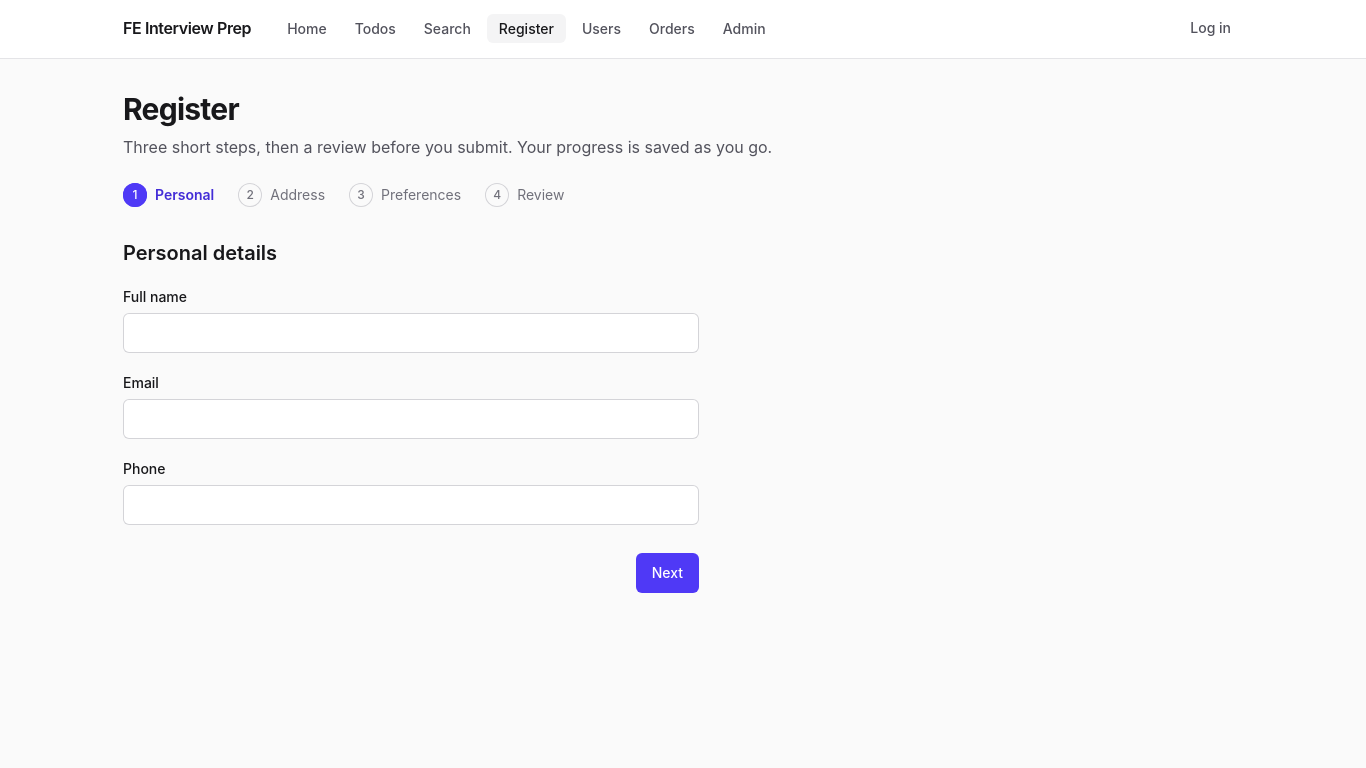
Scenario: RegistrationPage › keeps what was entered when going back and forward again
Expected: the heading "Register" is shown, [123,91,239,127]
Step 1. Type "Ada Lovelace" into the field labelled "Full name" → (411, 333), box [123,313,699,353]
Step 2. Type "ada@example.com" into the field labelled "Email" → (411, 419), box [123,399,699,439]
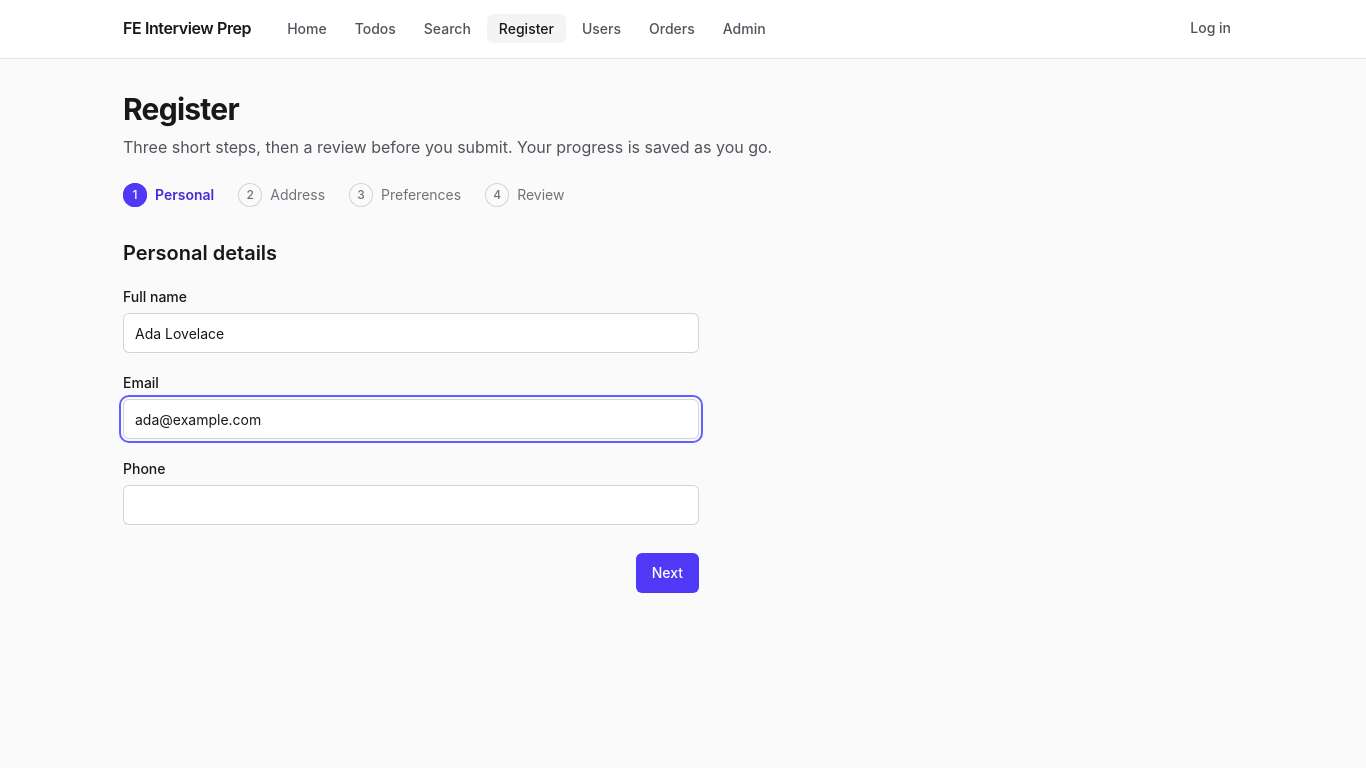
Step 3. Type "+44 20 7946 0958" into the field labelled "Phone" → (411, 505), box [123,485,699,525]
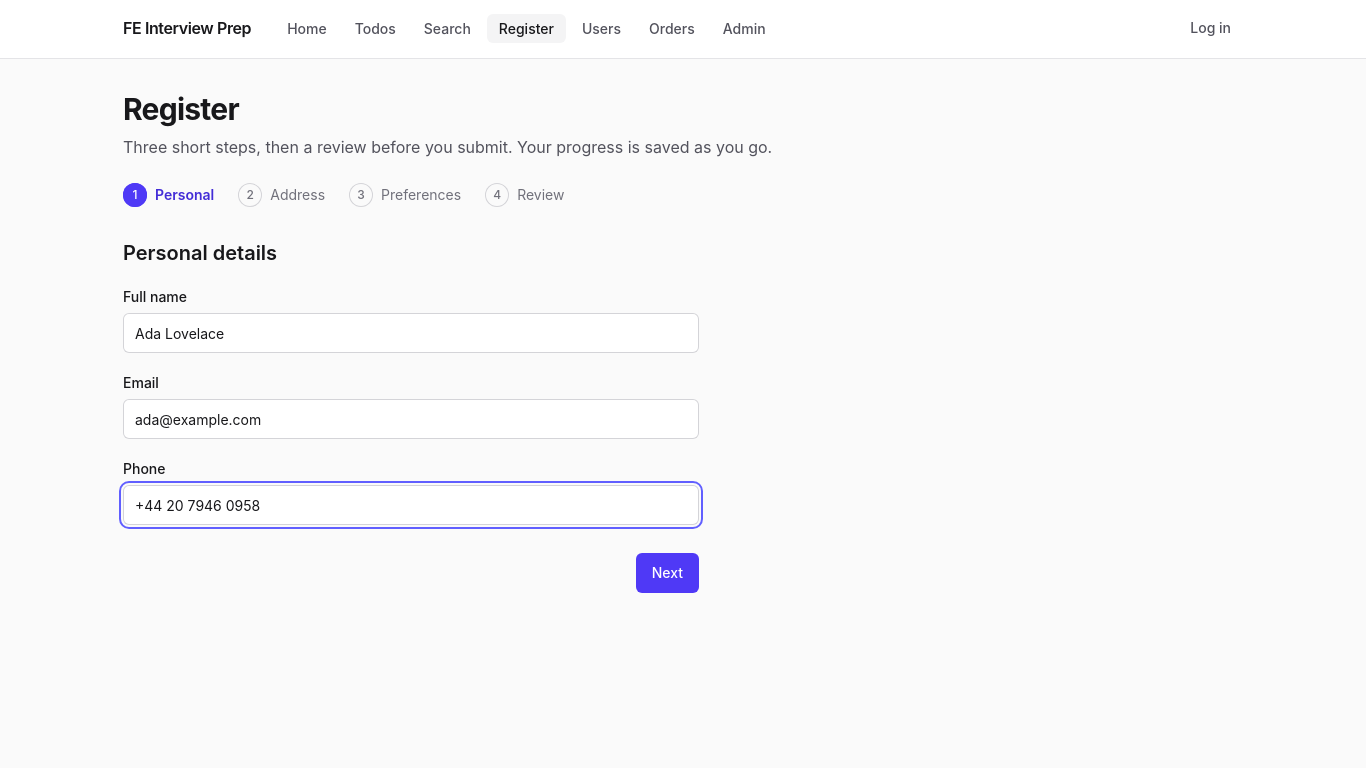
Step 4. Click the button "Next" → (667, 573), box [636,553,699,593]
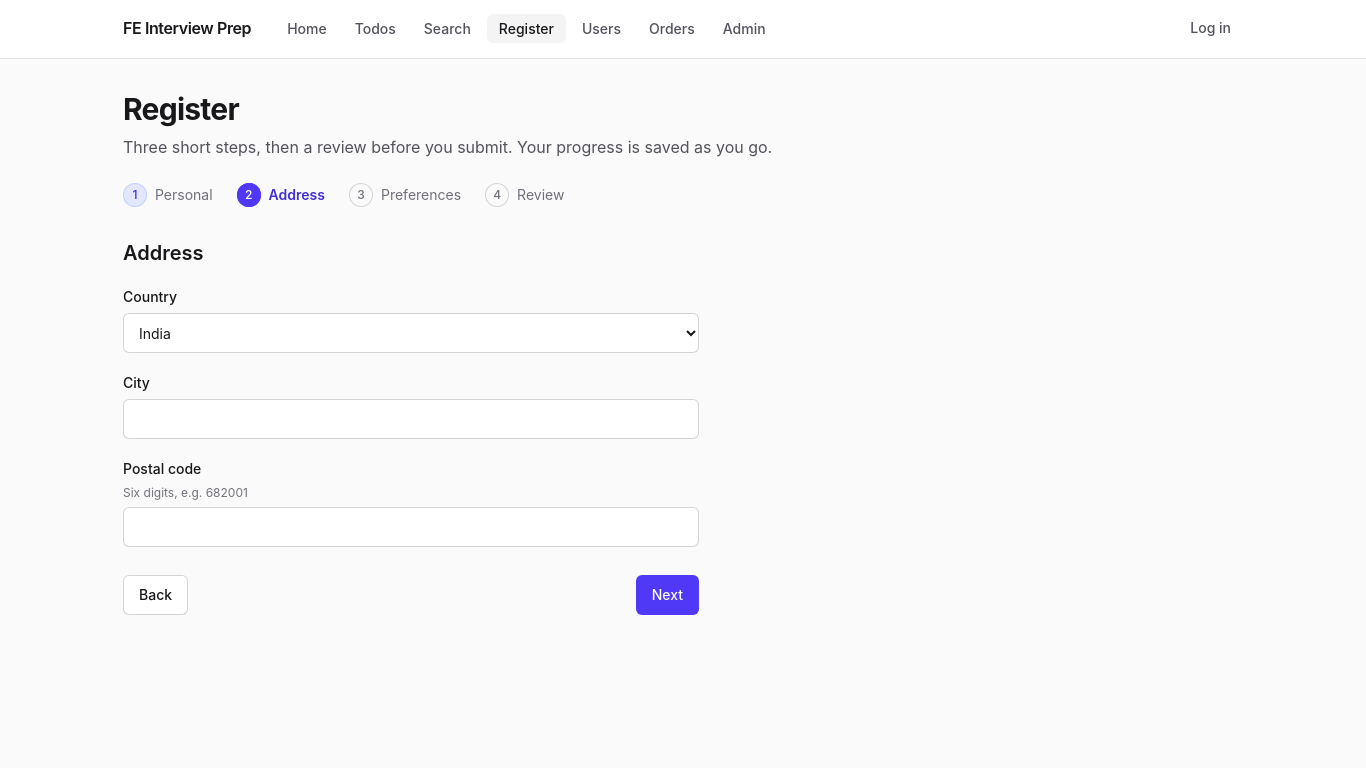
Step 5. Type "Kochi" into the field labelled "City" → (411, 419), box [123,399,699,439]
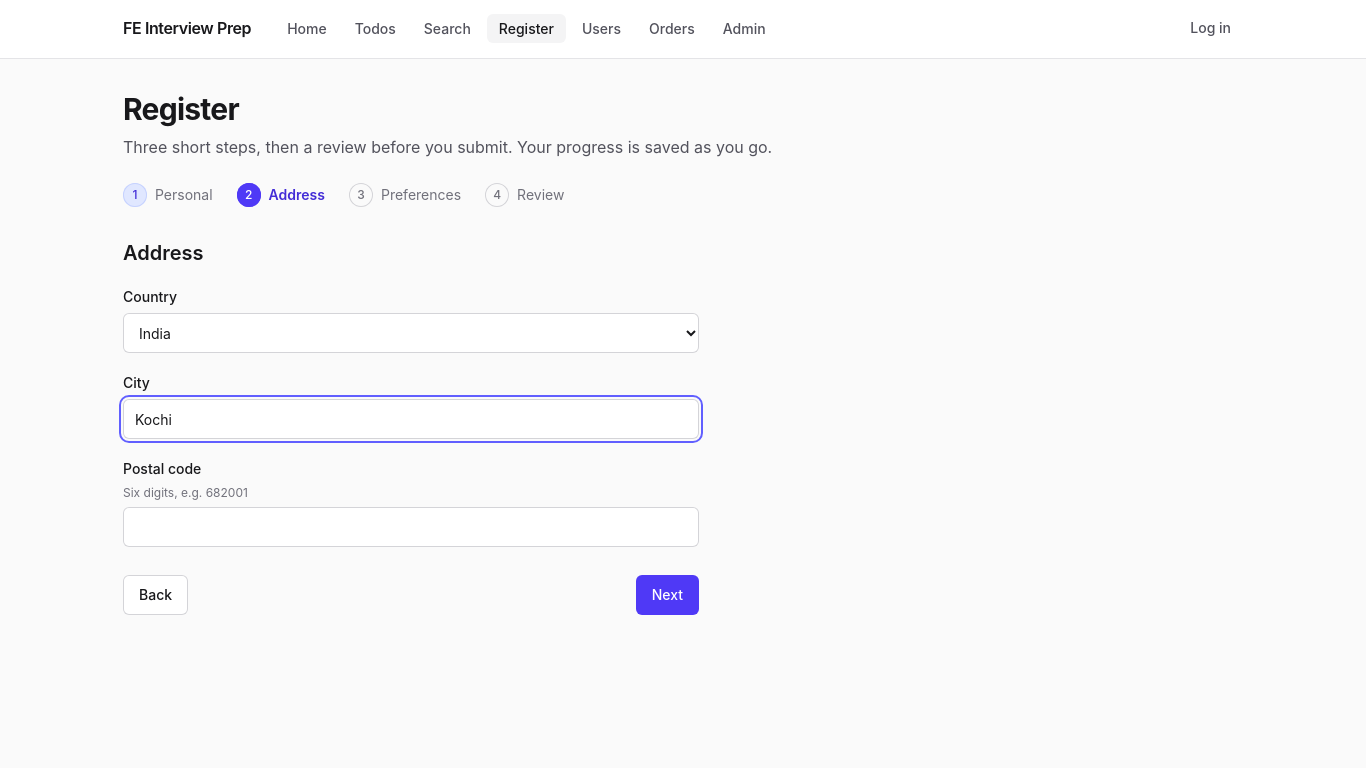
Step 6. Click the button "Back" → (156, 595), box [123,575,188,615]
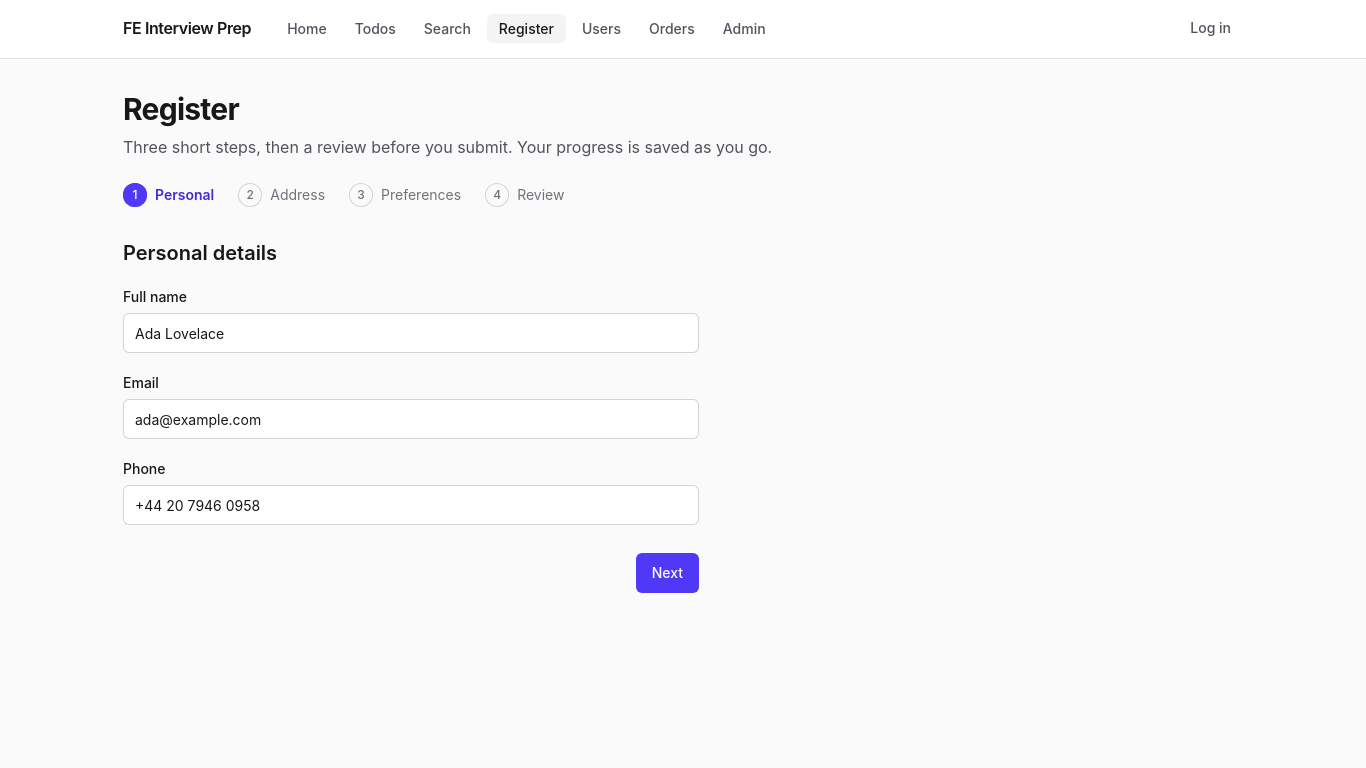
Result: the field labelled "Full name" holds "Ada Lovelace" at [123,313,699,353]
Result: the field labelled "Email" holds "ada@example.com" at [123,399,699,439]
Result: the field labelled "Phone" holds "+44 20 7946 0958" at [123,485,699,525]
Step 7. Click the button "Next" → (667, 573), box [636,553,699,593]
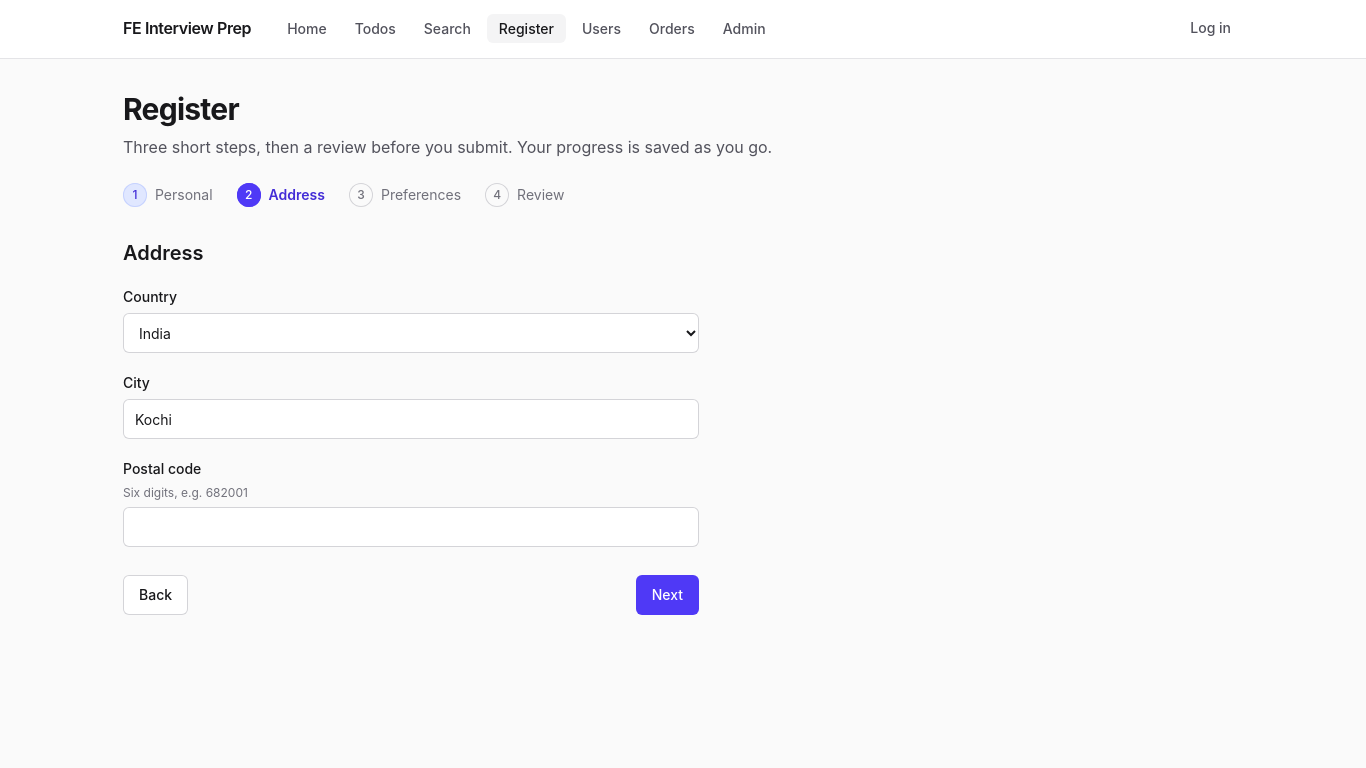
Expected: the list item "2 Address" is shown, [237,183,325,207]
Result: the field labelled "City" holds "Kochi" at [123,399,699,439]
